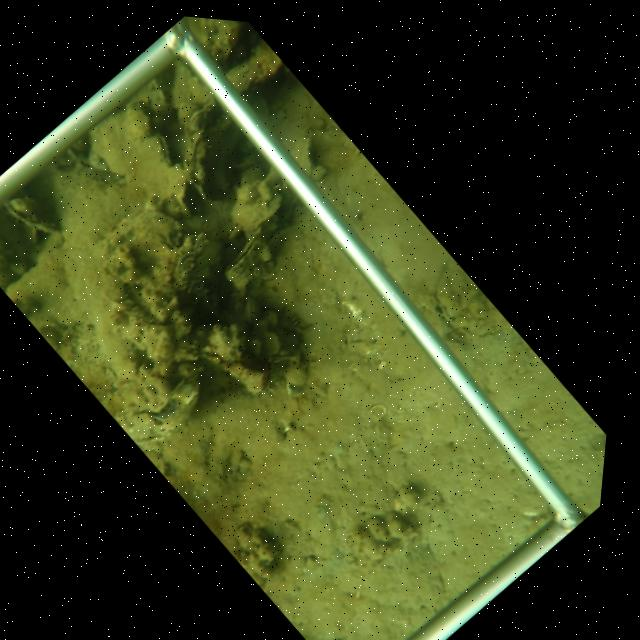Oyster-Closed: (0, 197, 60, 235), (225, 234, 264, 279), (244, 296, 262, 325)
Oyster-Indeterminate: (86, 107, 185, 204), (228, 186, 281, 233)
